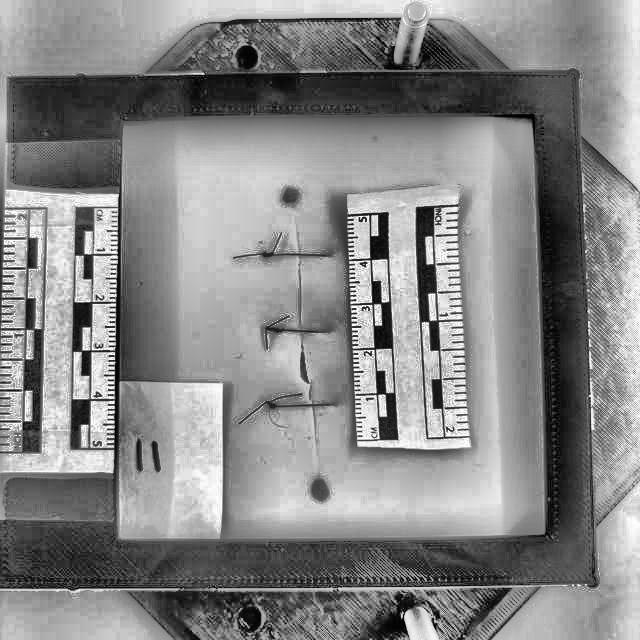incision_line: (292, 203, 309, 477)
scale_marker: (353, 350, 368, 394)
suture_d: (305, 331, 314, 406), (305, 255, 312, 332)
suture_l: (270, 254, 300, 257), (275, 405, 312, 407), (281, 330, 300, 332)
suture_r: (312, 404, 333, 406), (300, 255, 326, 256), (301, 331, 318, 332)
